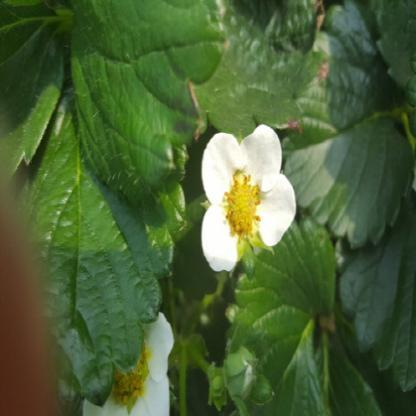Strawberry_Blossom_Blight: (220, 166, 264, 245)
